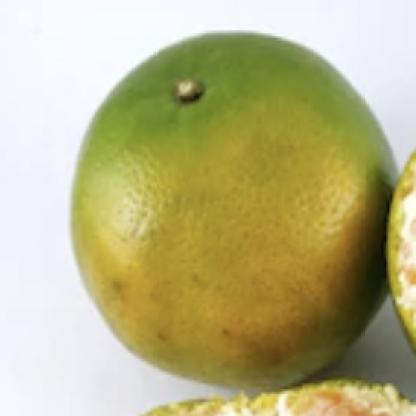fresh: (74, 33, 401, 386)
